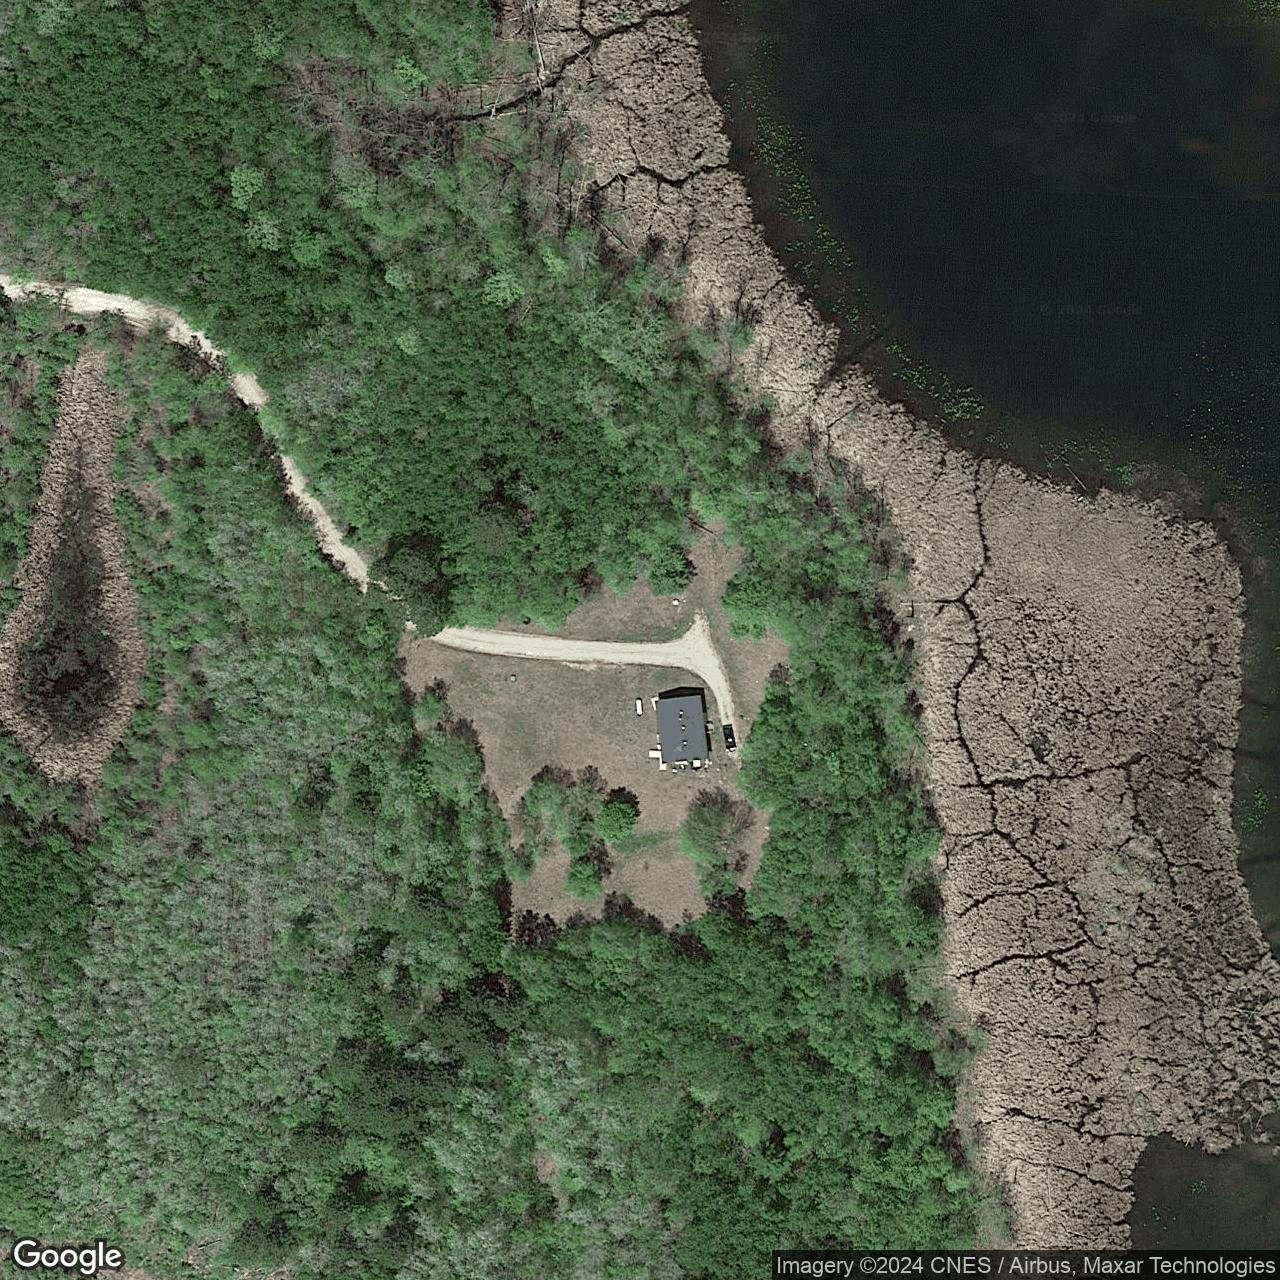House: (654, 693, 710, 764)
Propane: (634, 696, 646, 717)
